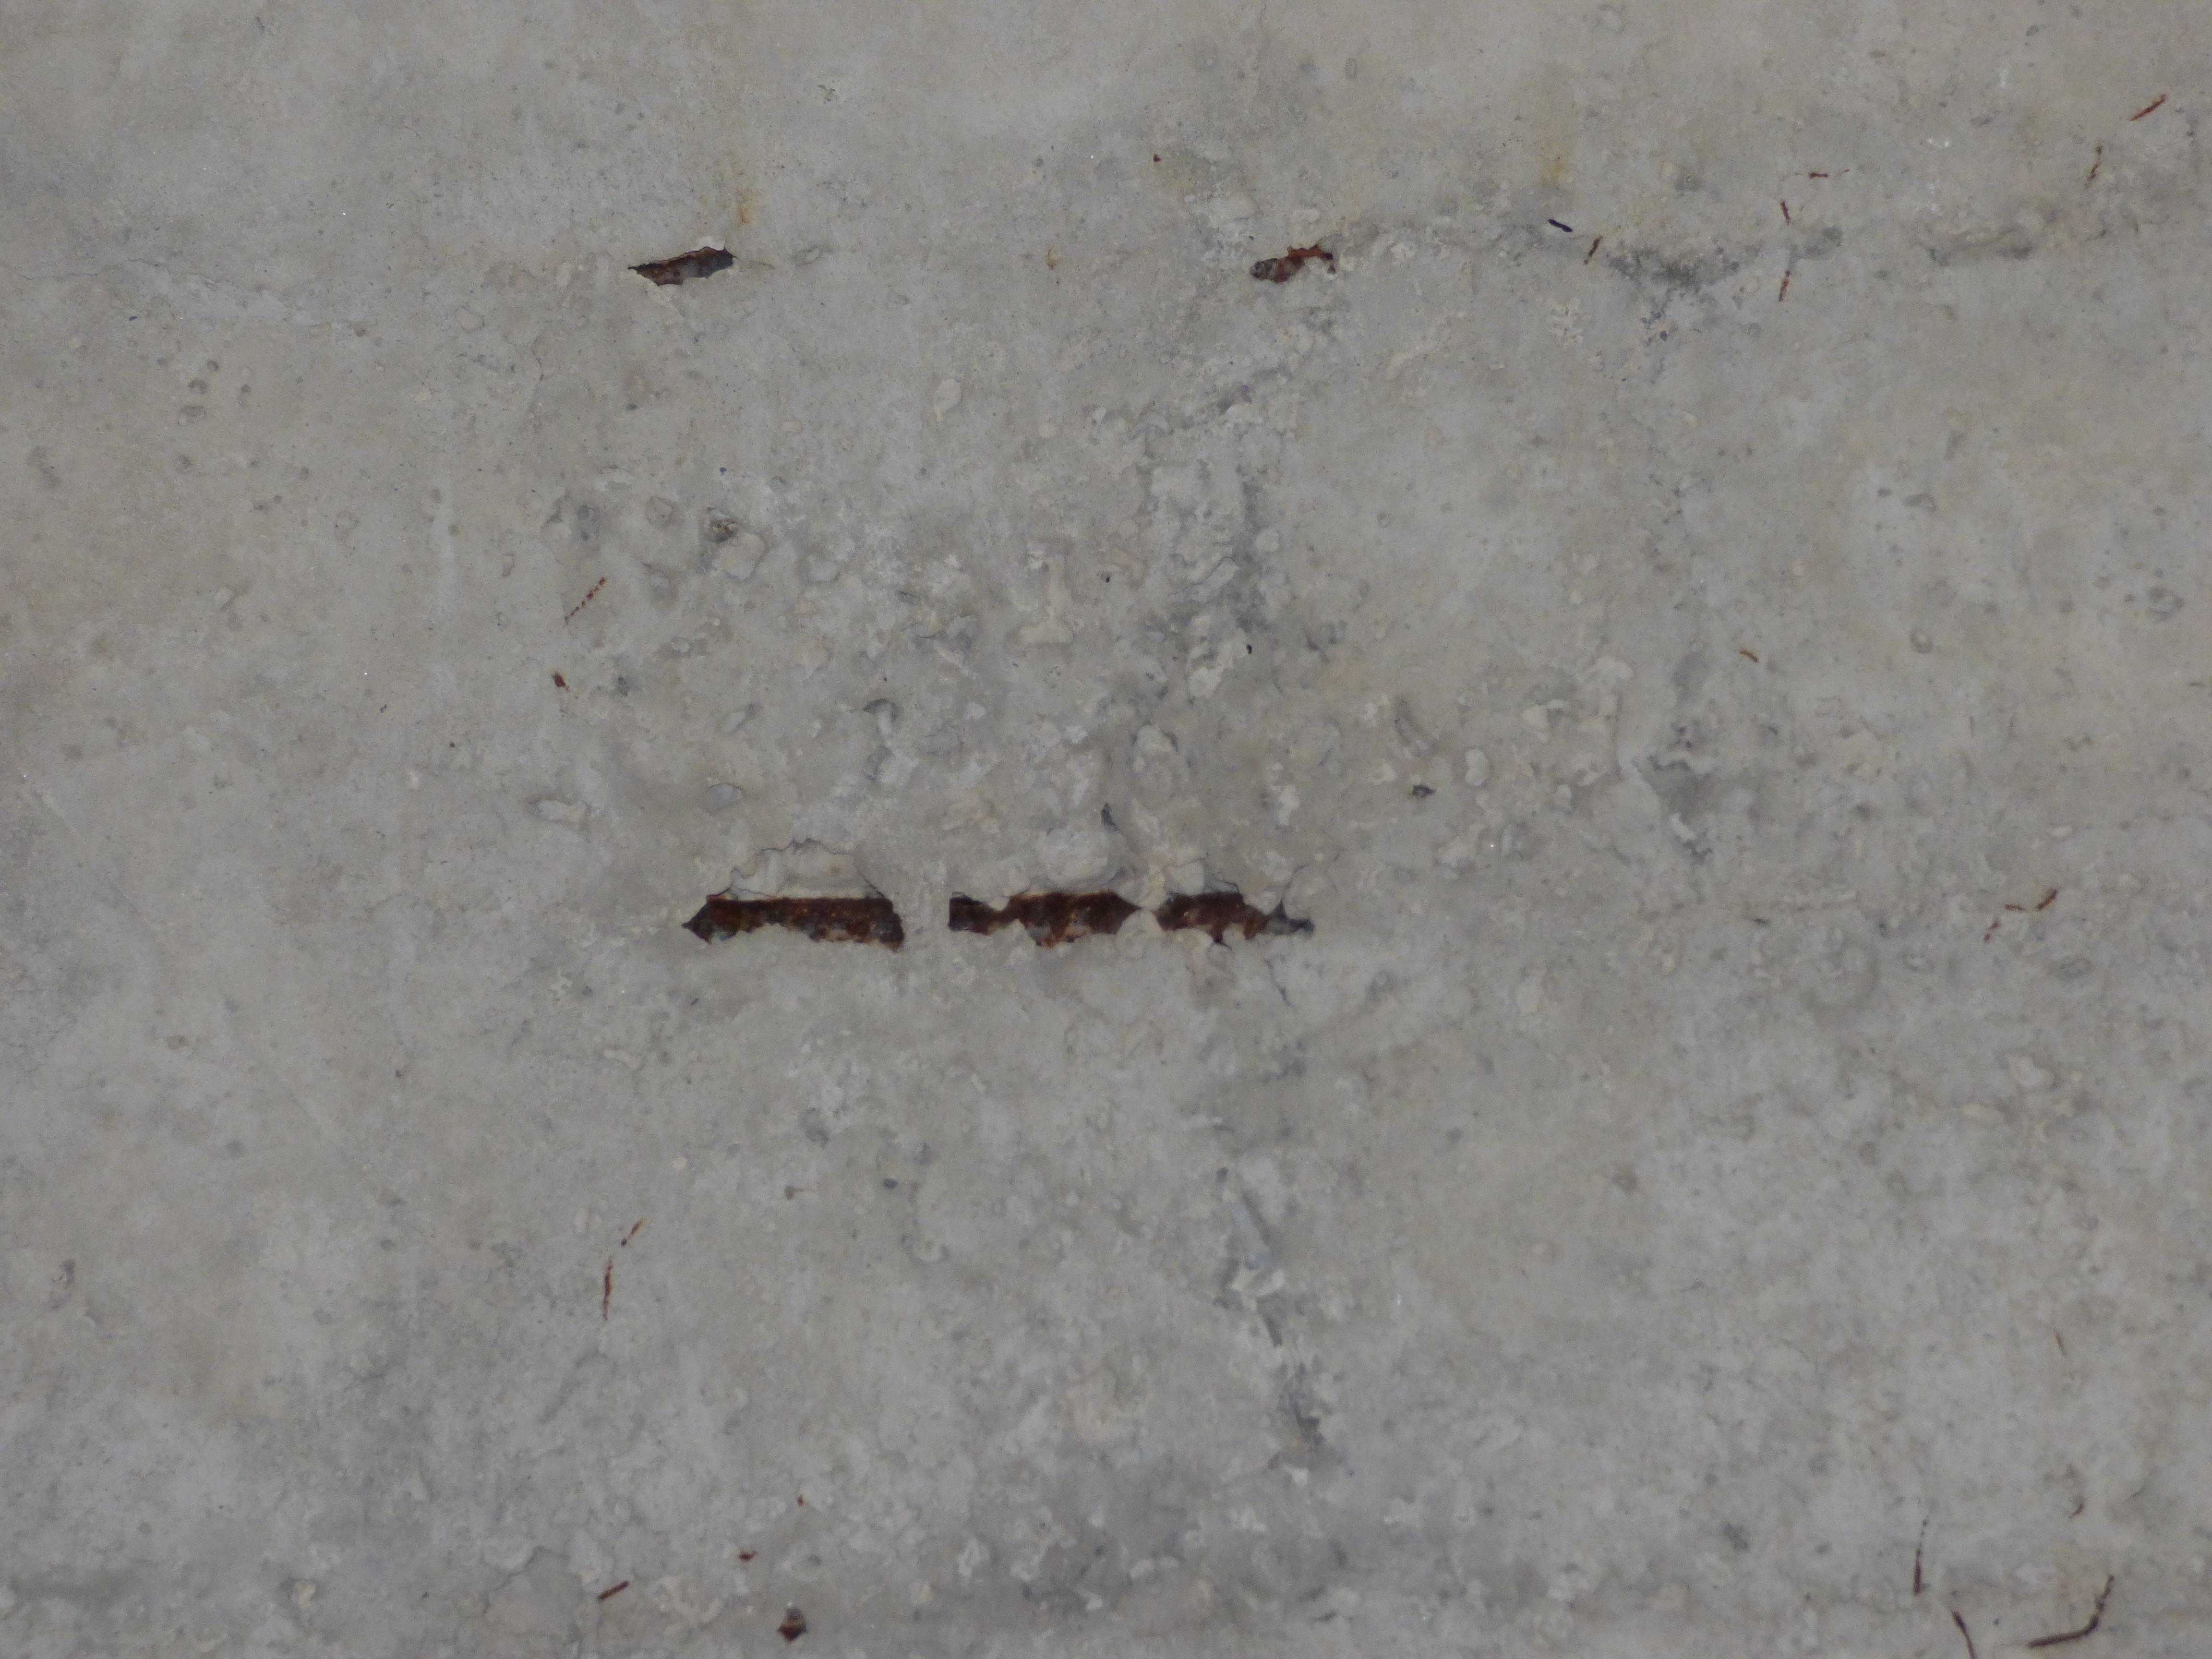Exposed reinforcement: (2026, 1570, 2116, 1649), (948, 892, 1132, 927), (693, 897, 897, 924), (1157, 894, 1270, 929), (1912, 1518, 1930, 1595), (1951, 1610, 1975, 1659), (2130, 92, 2167, 122), (601, 1258, 613, 1321), (620, 1220, 643, 1248), (1287, 246, 1329, 260), (1583, 237, 1604, 265), (2036, 887, 2059, 911), (1547, 218, 1573, 234), (1777, 270, 1789, 303), (1986, 917, 2000, 941), (1778, 200, 1791, 227), (1738, 650, 1757, 662), (1806, 171, 1829, 179), (2003, 904, 2026, 911)
Spalling: (679, 836, 907, 951), (1151, 857, 1318, 950), (948, 889, 1143, 950), (625, 246, 735, 288), (1249, 242, 1336, 286)
